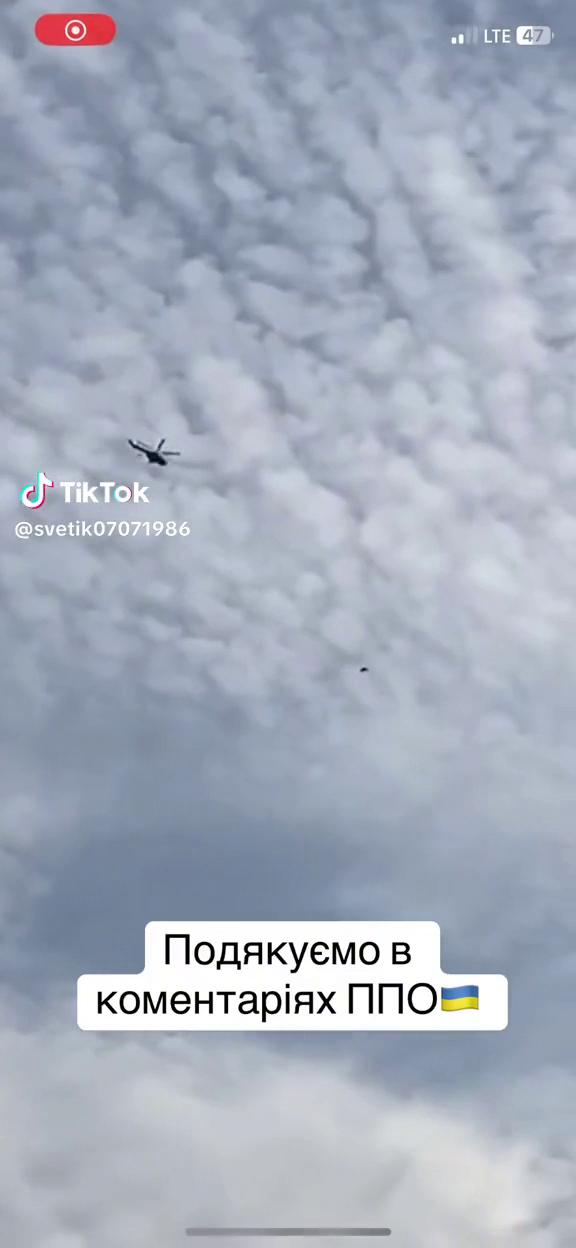not_drone: (124, 432, 184, 470)
